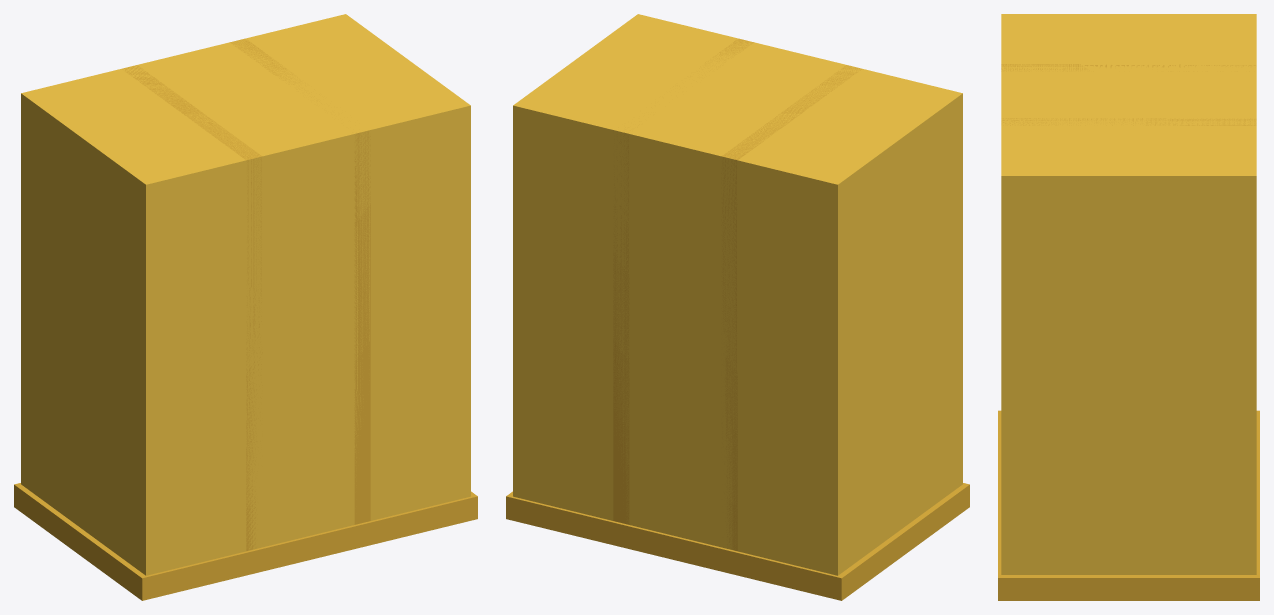
File: monge_saia.glb
3 renders of one model, left to right at view 1: azimuth 30°, elevation 25°; view 2: azimuth 150°, elevation 25°; view 3: azimuth 270°, elevation 25°, orthographic. The views are drawn at different scales.
Visible parts, largest first — view 1: monge_saia; view 2: monge_saia; view 3: monge_saia.
Boxes of the visible parts, bbox=[...] form: monge_saia: bbox=[14, 14, 477, 600]; monge_saia: bbox=[506, 14, 969, 600]; monge_saia: bbox=[998, 14, 1259, 600].
Bounding box in the file's own units: 0.62 × 0.73 × 0.41.
